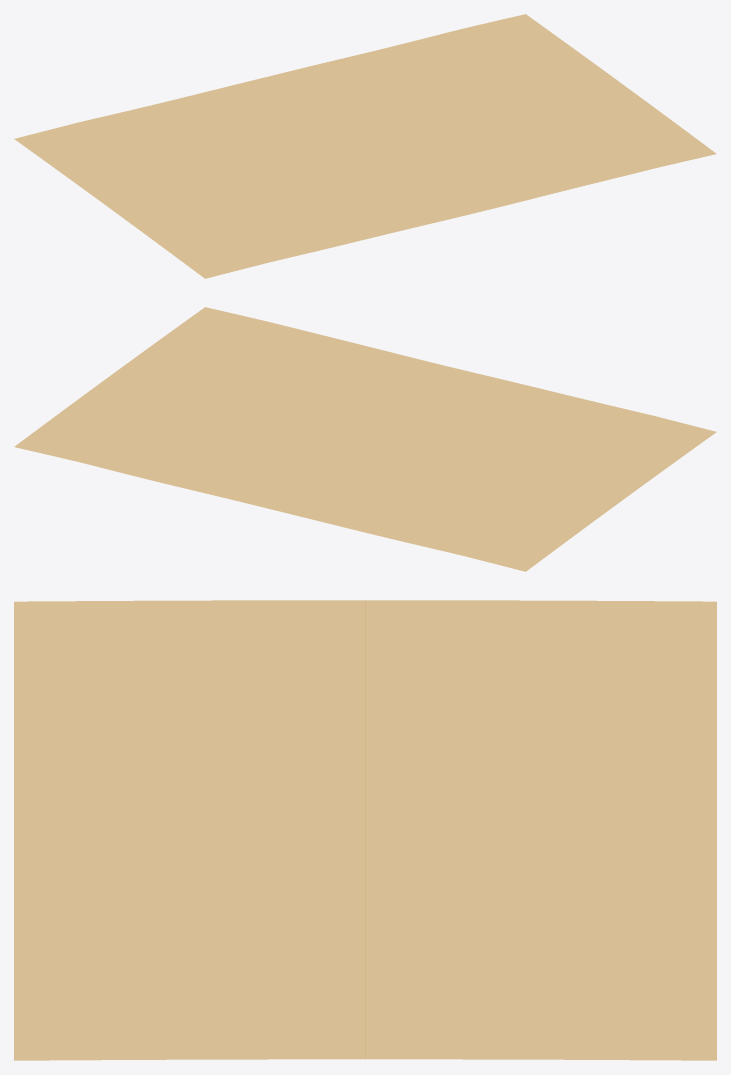
Rendered from liquid.glb.
3 renders of one model, top to bottom at view 1: azimuth 30°, elevation 25°; view 2: azimuth 150°, elevation 25°; view 3: azimuth 270°, elevation 25°, orthographic. The views are drawn at different scales.
Parts seen in each view (by area): view 1: Liquid_Surface; view 2: Liquid_Surface; view 3: Liquid_Surface.
Part boxes in pixels (x1,y1,x2,y2): Liquid_Surface: [14, 14, 716, 278]; Liquid_Surface: [14, 307, 716, 571]; Liquid_Surface: [14, 600, 716, 1060].
Size of the model in its own units: 0.85 by 0.0154 by 0.55.
